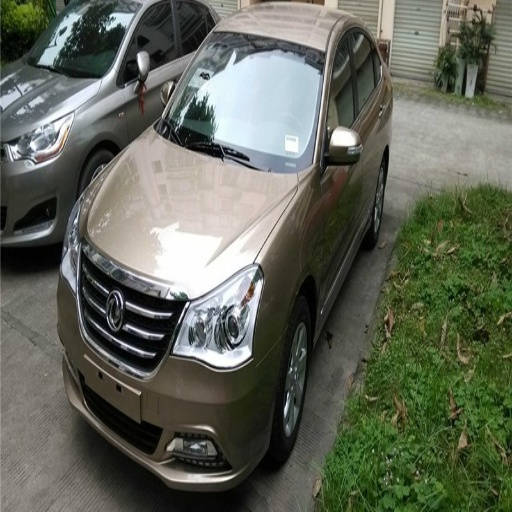front_bumper: (72, 259, 280, 490), (5, 155, 56, 205)
front_glass: (160, 36, 321, 170), (28, 0, 131, 77)
front_left_door: (319, 41, 361, 297), (125, 0, 187, 116)
